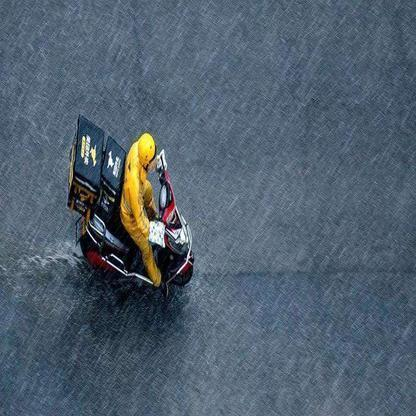target: (65, 113, 206, 297)
